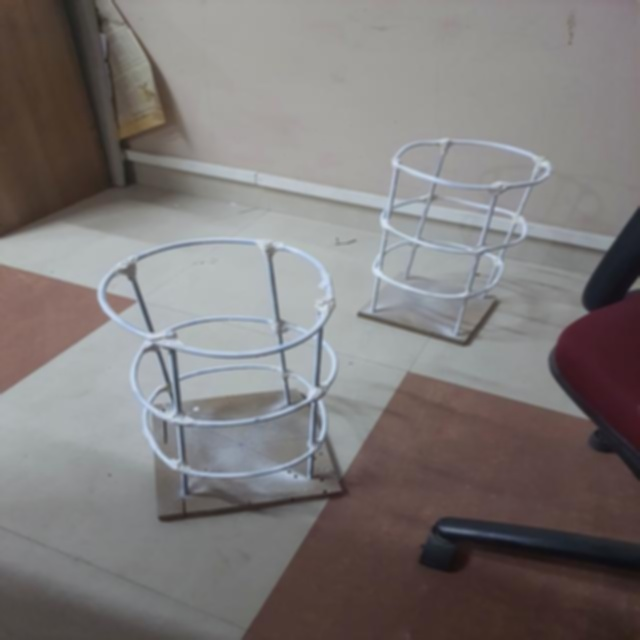silo: (98, 240, 355, 534), (360, 138, 551, 338)
